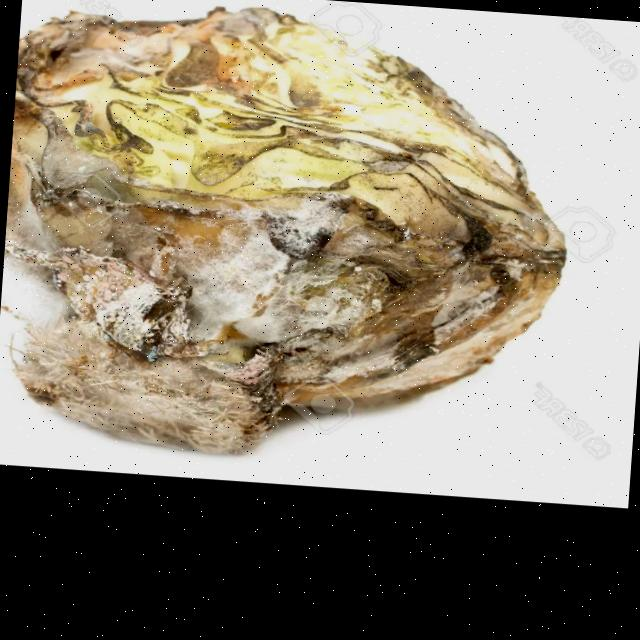rotten cabbage: (0, 0, 579, 471)
